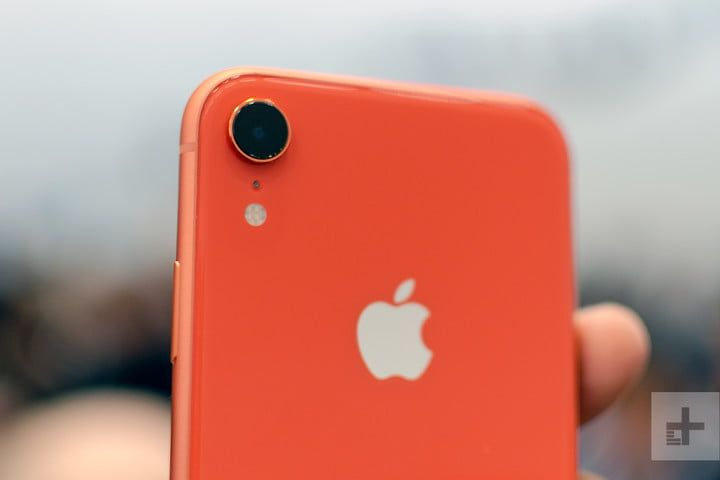apple: (347, 259, 457, 399)
